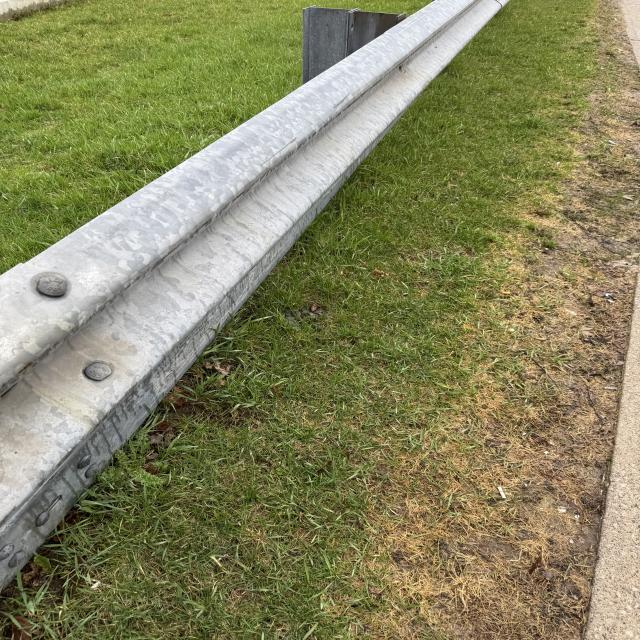Guard rail: (15, 18, 502, 564)
